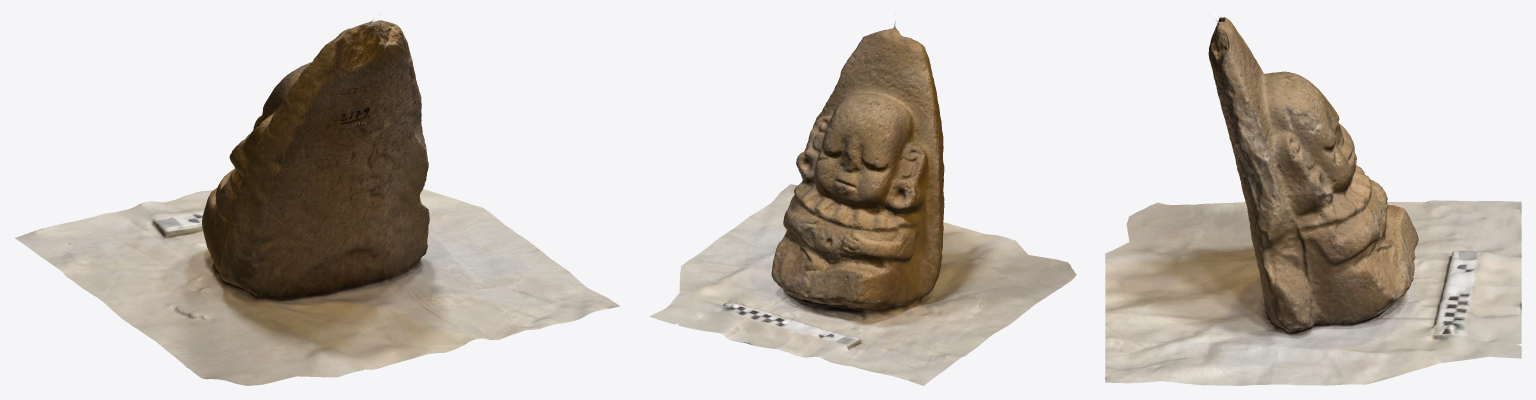
3 views of the same model, side by side, from view 1: azimuth 30°, elevation 25°; view 2: azimuth 150°, elevation 25°; view 3: azimuth 270°, elevation 25° (orthographic). The views are drawn at different scales.
Parts seen in each view (by area): view 1: Object; view 2: Object; view 3: Object.
Boxes of the visible parts, box(x1,y1,x2,y2) form: Object: box(15, 19, 619, 385); Object: box(649, 14, 1076, 385); Object: box(1105, 17, 1521, 385).
Size of the model in its own units: 1.56 by 1.16 by 1.53.
1 material, 1 textured.
